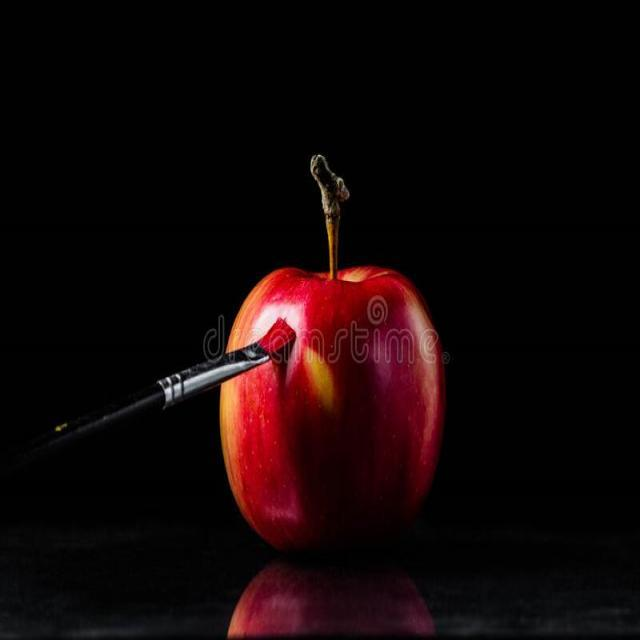Fresh Apple: (285, 275, 437, 545)
